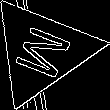M_SE: (7, 20, 76, 82)
